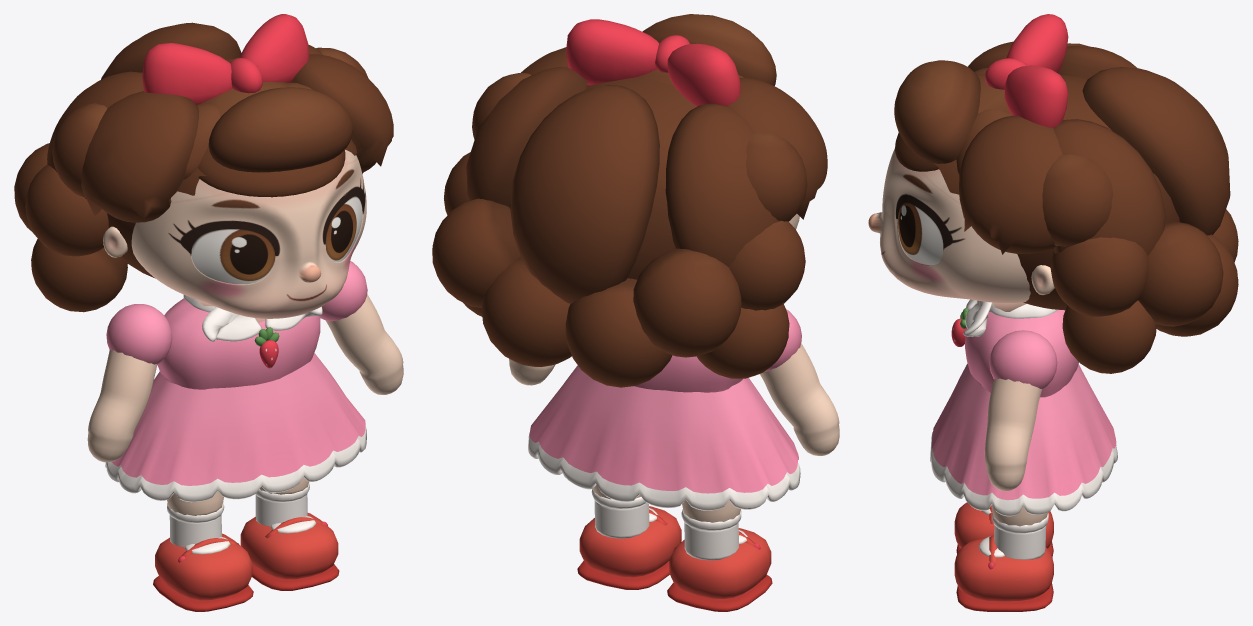
Rendered from rosie-opus.glb.
The picture shows the model from 3 angles, left to right: view 1: azimuth 30°, elevation 25°; view 2: azimuth 150°, elevation 25°; view 3: azimuth 270°, elevation 25°; orthographic projection. The views are drawn at different scales.
Visible parts, largest first — view 1: Rosie_hair, Rosie_skirt, Rosie_head, Rosie_dress, Rosie_leg_R, Rosie_arm_R, Rosie_leg_L, Rosie_arm_L, Rosie_eye_R, Rosie_eye_L; view 2: Rosie_hair, Rosie_skirt, Rosie_leg_R, Rosie_leg_L, Rosie_arm_R, Rosie_dress, Rosie_arm_L; view 3: Rosie_hair, Rosie_skirt, Rosie_head, Rosie_leg_L, Rosie_arm_L, Rosie_dress, Rosie_eye_L, Rosie_leg_R.
Boxes of the visible parts, x1,y1,x2,y2 form: Rosie_hair: (14,14,393,312); Rosie_skirt: (105,353,366,502); Rosie_head: (103,150,366,322); Rosie_dress: (157,295,322,389); Rosie_leg_R: (153,491,253,611); Rosie_arm_R: (87,304,172,462); Rosie_leg_L: (240,477,339,590); Rosie_arm_L: (320,261,403,394); Rosie_eye_R: (191,229,275,284); Rosie_eye_L: (325,196,362,262); Rosie_hair: (432,14,827,387); Rosie_skirt: (528,365,800,510); Rosie_leg_R: (667,500,772,611); Rosie_leg_L: (577,485,681,589); Rosie_arm_R: (760,309,839,455); Rosie_dress: (634,355,742,392); Rosie_arm_L: (509,358,555,385); Rosie_hair: (894,14,1238,373); Rosie_skirt: (930,363,1117,516); Rosie_head: (868,148,1054,312); Rosie_leg_L: (954,504,1053,611); Rosie_arm_L: (984,330,1057,490); Rosie_dress: (951,299,1078,397); Rosie_eye_L: (898,202,943,265); Rosie_leg_R: (954,502,1053,557).
Size of the model in its own units: 0.8375 by 1.29 by 0.8138.
Materials: 1 (1 with a texture image).
